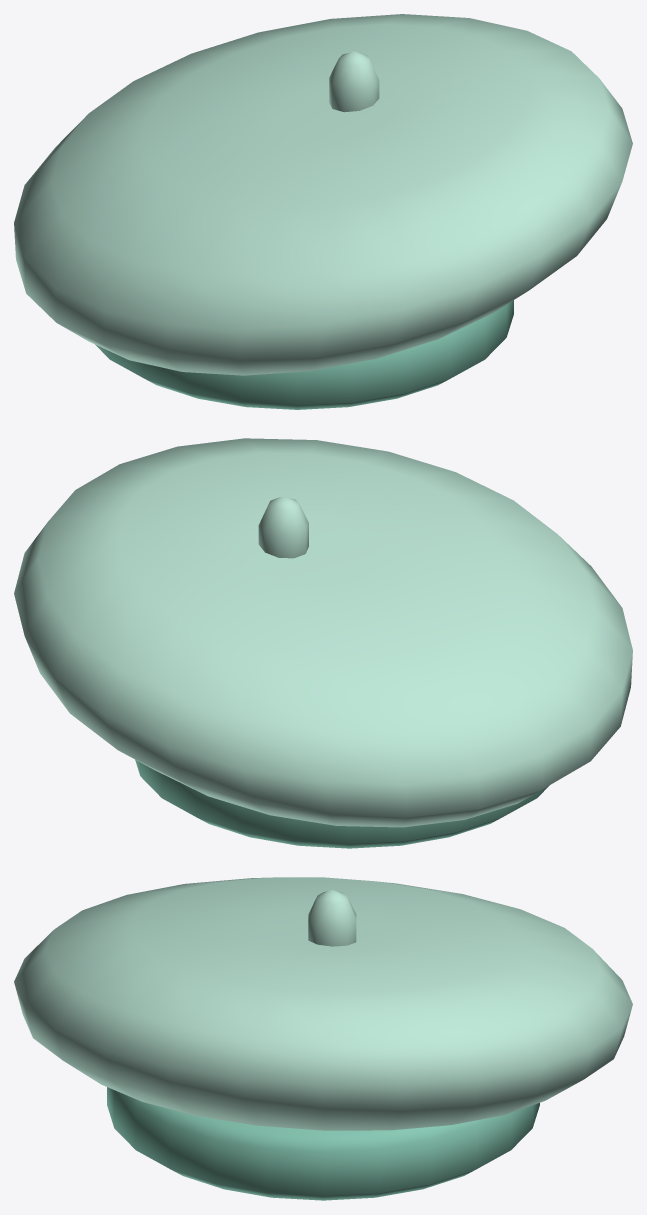
The model's file is hat_beret.glb.
3 renders of one model, top to bottom at view 1: azimuth 30°, elevation 25°; view 2: azimuth 150°, elevation 25°; view 3: azimuth 270°, elevation 25°, orthographic.
Visible parts, largest first — view 1: SoftCap, HeadBand, Stem; view 2: SoftCap, HeadBand, Stem; view 3: SoftCap, HeadBand, Stem.
Part boxes in pixels (x1,y1,x2,y2): SoftCap: (14,14,632,375); HeadBand: (95,300,513,409); Stem: (329,51,379,112); SoftCap: (14,438,632,827); HeadBand: (135,759,549,848); Stem: (258,496,308,558); SoftCap: (14,877,632,1130); HeadBand: (107,1087,539,1200); Stem: (308,890,356,946).
Bounding box in the file's own units: 0.14 × 0.064 × 0.14.
1 material, 1 textured.
